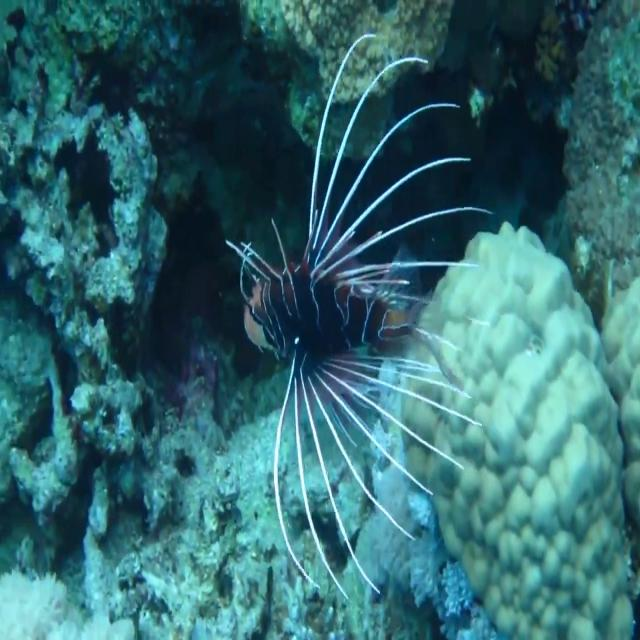Aslan Baligi: (224, 31, 496, 604)
